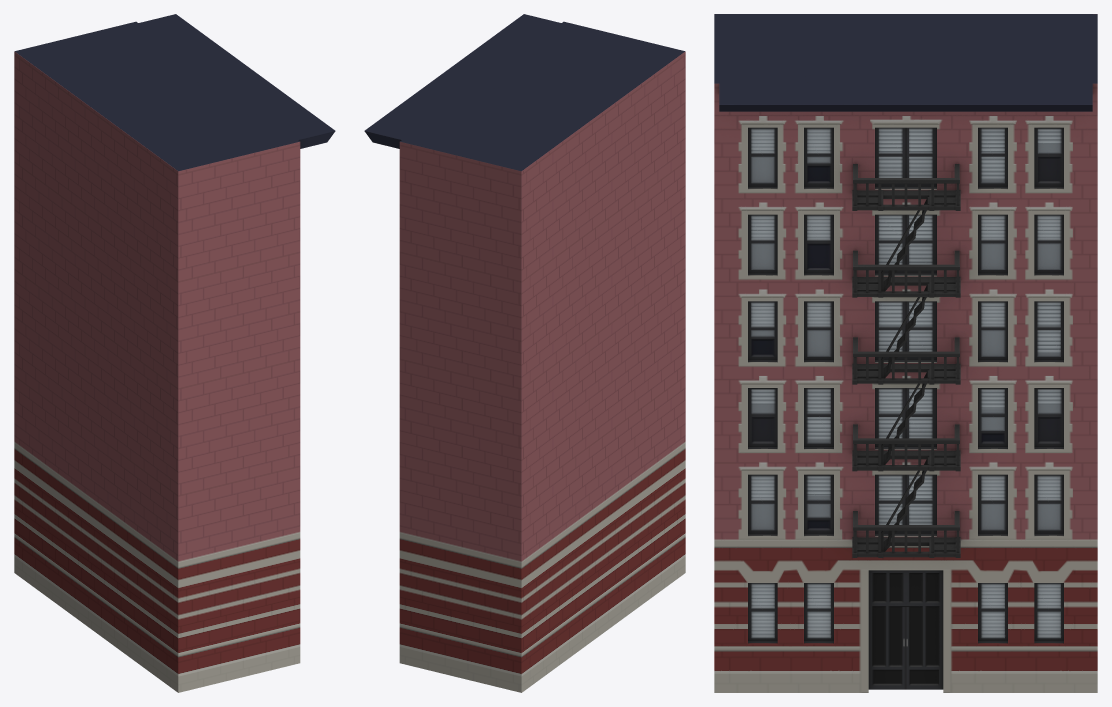
File: house.obj
3 views of the same model, side by side, from view 1: azimuth 30°, elevation 25°; view 2: azimuth 150°, elevation 25°; view 3: azimuth 270°, elevation 25° (orthographic). The views are drawn at different scales.
Visible parts, largest first — view 1: 000_Apartment_building; view 2: 000_Apartment_building; view 3: 000_Apartment_building.
Part boxes in pixels (left/top/right/bottom): 000_Apartment_building: left=14, top=14, right=335, bottom=692; 000_Apartment_building: left=364, top=14, right=685, bottom=692; 000_Apartment_building: left=714, top=14, right=1097, bottom=692.
Bounding box in the file's own units: 13.3 × 41.54 × 23.68.
